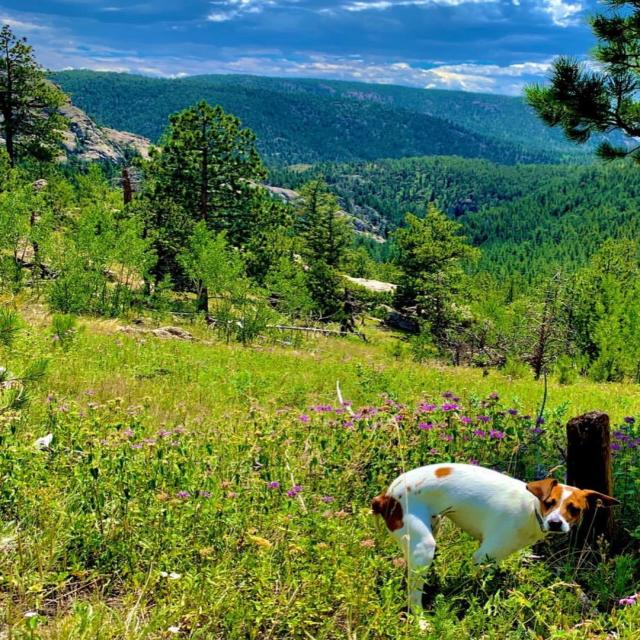squatting: (365, 451, 625, 634)
